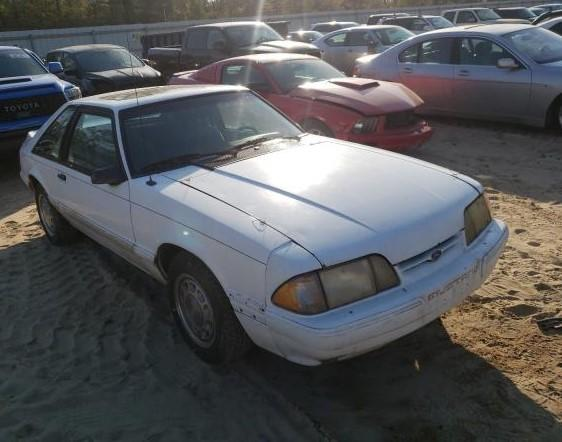Back-bumper: (20, 171, 30, 191)
Back-wheel: (35, 182, 77, 246)
Back-window: (32, 105, 78, 162)
Fender: (130, 173, 322, 325)
Front-bumper: (235, 218, 509, 366)
Front-door: (55, 101, 136, 263)
Front-wheel: (168, 250, 259, 365)
Front-window: (68, 107, 127, 176)
Grille: (391, 229, 465, 277)
Headlight: (272, 254, 400, 315), (464, 190, 493, 246)
Hood: (159, 132, 483, 267)
License-plate: (423, 260, 481, 305)
Mirror: (91, 165, 127, 187)
Quarter-panel: (19, 147, 60, 212)
Rocker-panel: (71, 222, 167, 285)
Roof: (75, 84, 248, 111)
Trunk: (26, 130, 39, 140)
Windshield: (119, 91, 304, 176)
